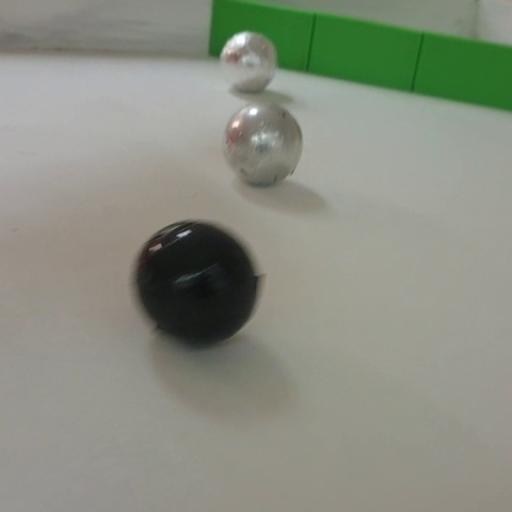alive: (222, 102, 302, 186), (220, 32, 277, 96)
dead: (132, 218, 262, 345)
